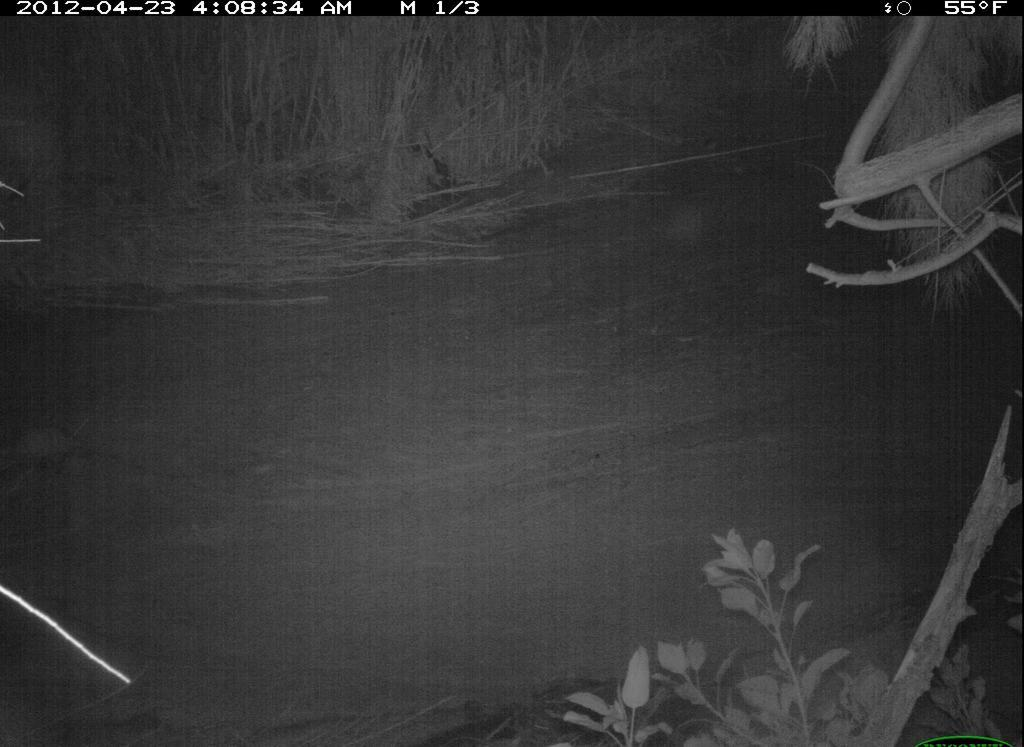opossum: (8, 400, 94, 506)
